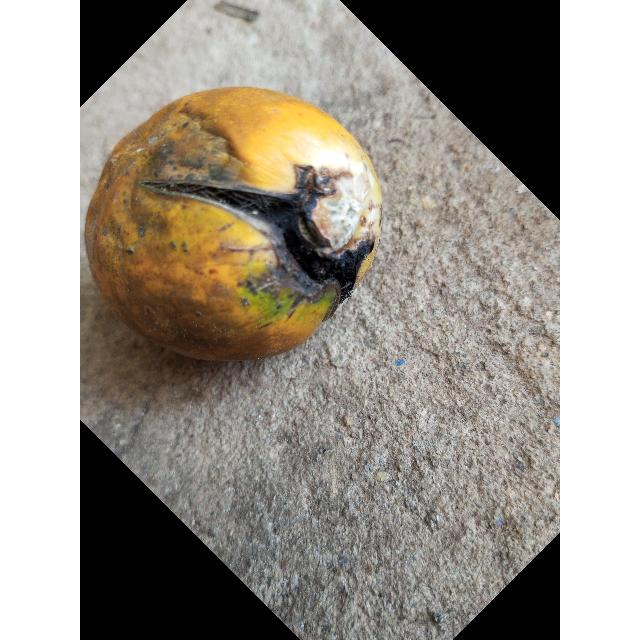damaged: (85, 87, 382, 360)
